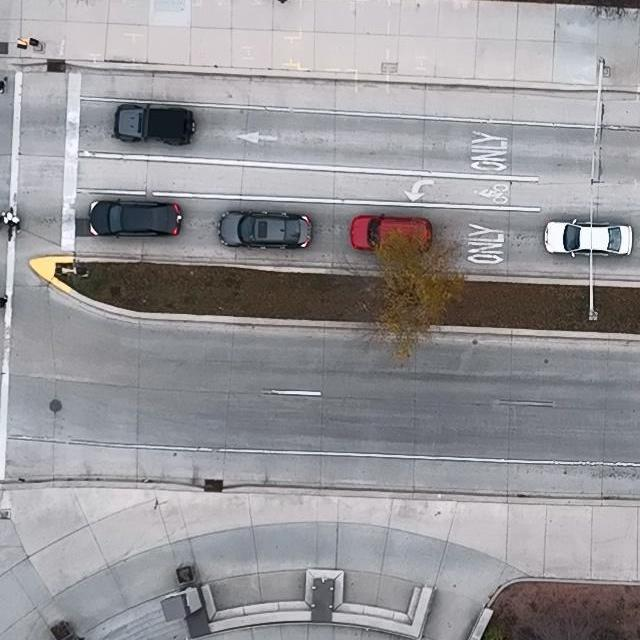car: (217, 208, 313, 252), (87, 199, 184, 240), (544, 217, 633, 259), (349, 211, 432, 256), (115, 104, 197, 145)
